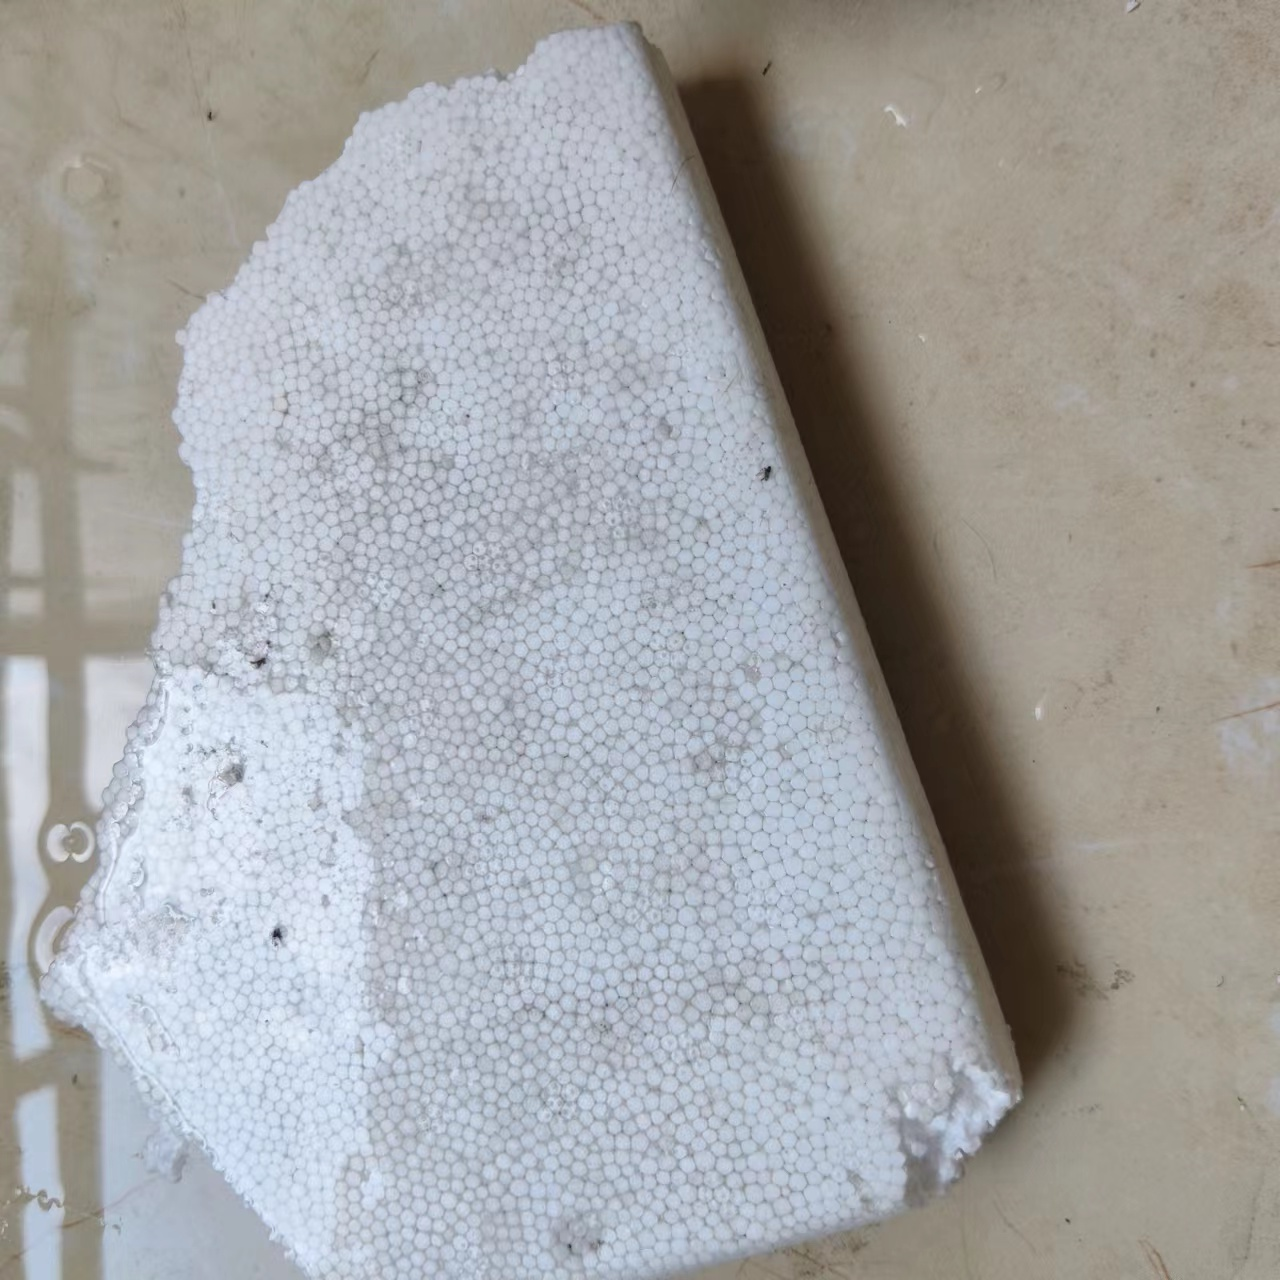5/可回收垃圾/泡沫: (40, 19, 1024, 1280)
